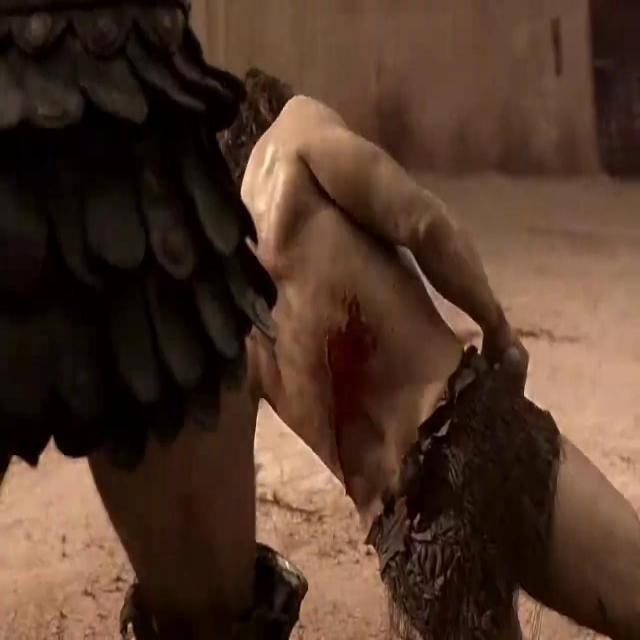flood: (308, 292, 386, 504)
